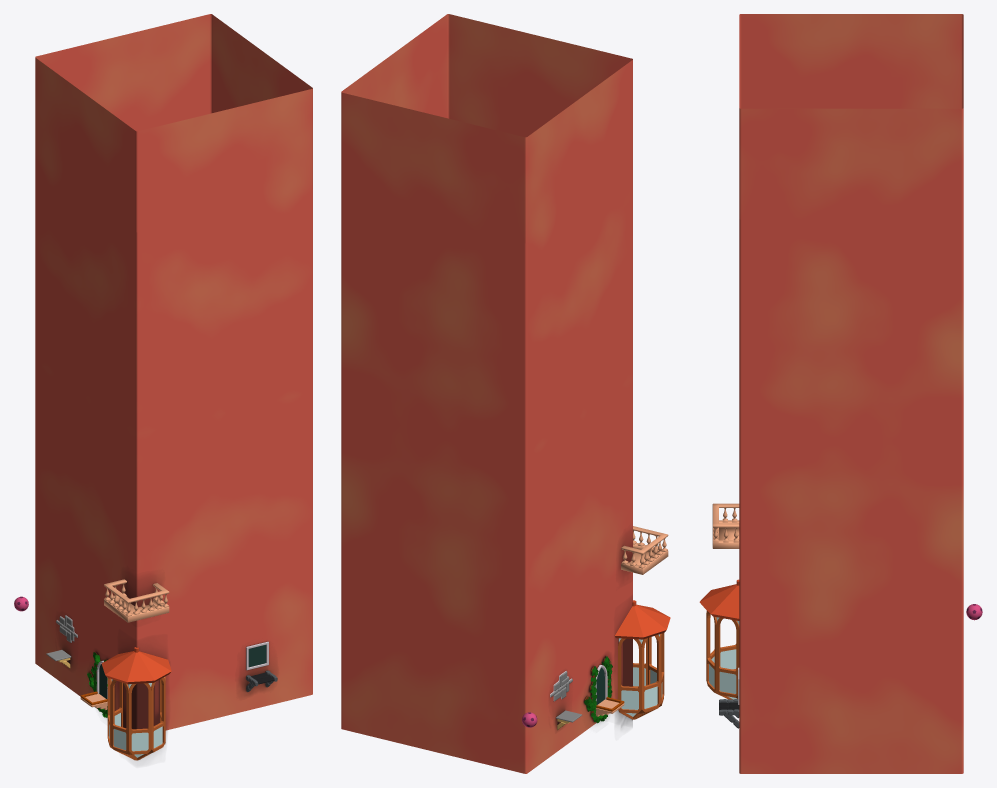
The picture shows the model from 3 angles, left to right: view 1: azimuth 30°, elevation 25°; view 2: azimuth 150°, elevation 25°; view 3: azimuth 270°, elevation 25°; orthographic projection. The views are drawn at different scales.
Parts seen in each view (by area): view 1: House.006, House.003, House.005, House.004, House.002, House.001, Turret, Balcony, TurretWall, Hatch, Window, BalconyWall (+1 smaller); view 2: House.006, House.003, House.004, House.005, House.002, House.001, Turret, Balcony, TurretWall, Window, Ivy; view 3: House.006, House.004, House.005, House.003, House.001, House.002, Turret, Balcony, Hatch.
Boxes of the visible parts, x1,y1,x2,y2 form: House.006: (35, 14, 312, 232); House.003: (35, 361, 312, 535); House.005: (35, 159, 312, 333); House.004: (35, 260, 312, 434); House.002: (35, 462, 312, 636); House.001: (35, 563, 312, 730); Turret: (101, 647, 171, 760); Balcony: (104, 579, 169, 622); TurretWall: (118, 646, 167, 760); Hatch: (246, 641, 277, 691); Window: (80, 660, 107, 710); BalconyWall: (122, 576, 160, 607); House.006: (341, 14, 632, 243); House.003: (341, 378, 632, 561); House.004: (341, 272, 632, 455); House.005: (341, 166, 632, 349); House.002: (341, 484, 632, 667); House.001: (341, 590, 632, 773); Turret: (615, 600, 670, 719); Balcony: (621, 526, 668, 574); TurretWall: (615, 601, 632, 727); Window: (594, 665, 624, 716); Ivy: (584, 656, 612, 723); House.006: (739, 14, 963, 219); House.004: (739, 330, 963, 441); House.005: (739, 219, 963, 330); House.003: (739, 441, 963, 552); House.001: (739, 662, 963, 773); House.002: (739, 552, 963, 662); Turret: (699, 579, 739, 699); Balcony: (712, 503, 739, 548); Hatch: (719, 667, 739, 728).
Size of the model in its own units: 12.96 by 38.17 by 13.89.
Materials: 10 (7 with a texture image).
